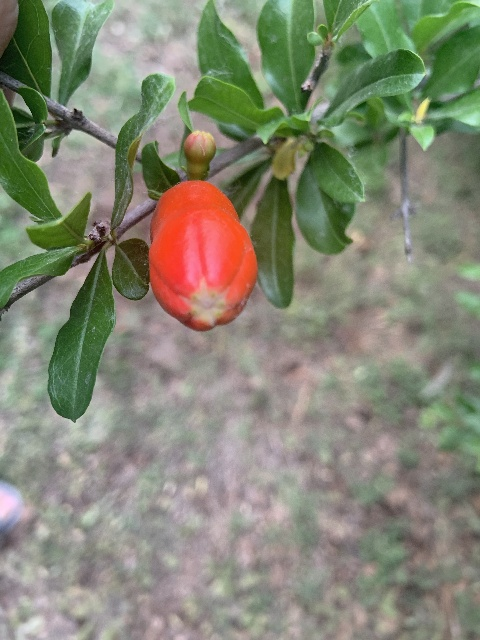bud: (147, 179, 257, 330), (183, 130, 217, 179)
